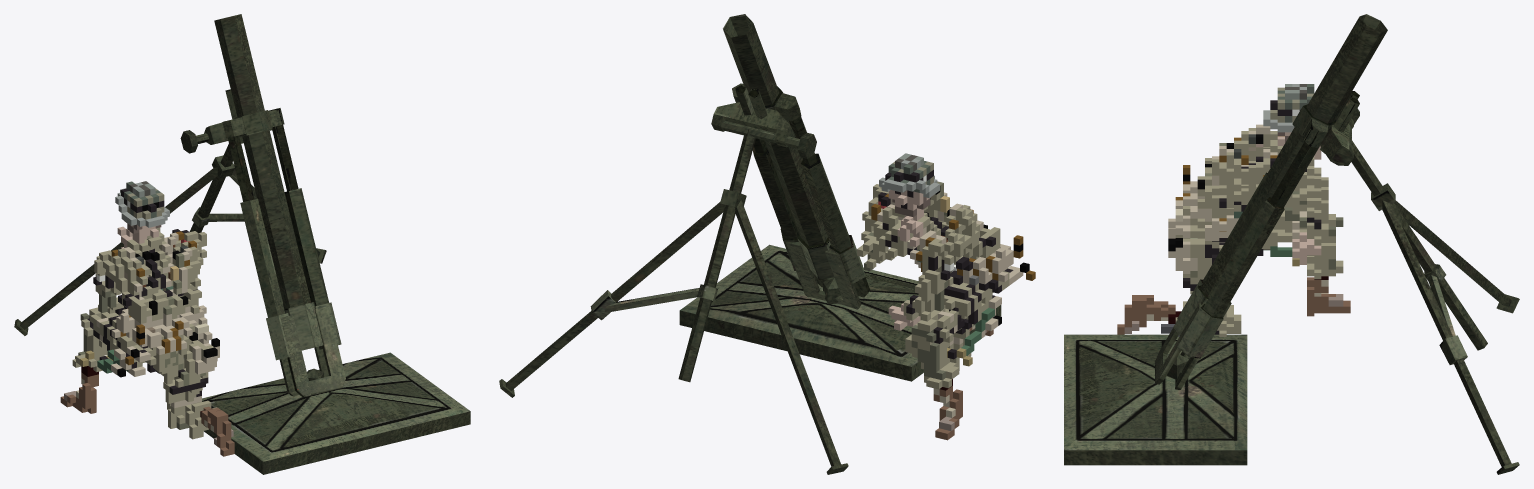
The model's file is heavy_mortar.glb.
3 renders of one model, left to right at view 1: azimuth 30°, elevation 25°; view 2: azimuth 150°, elevation 25°; view 3: azimuth 270°, elevation 25°, orthographic. The views are drawn at different scales.
Parts seen in each view (by area): view 1: weapon_turret_0_heavy_mortar_turret.mesh, crew_soldier_SLOT_00_GUNNER, 00_chassis_heavy_mortar_base.mesh; view 2: weapon_turret_0_heavy_mortar_turret.mesh, crew_soldier_SLOT_00_GUNNER, 00_chassis_heavy_mortar_base.mesh; view 3: weapon_turret_0_heavy_mortar_turret.mesh, 00_chassis_heavy_mortar_base.mesh, crew_soldier_SLOT_00_GUNNER.
Boxes of the visible parts, x1,y1,x2,y2 form: weapon_turret_0_heavy_mortar_turret.mesh: (14,14,345,397); crew_soldier_SLOT_00_GUNNER: (60,181,234,456); 00_chassis_heavy_mortar_base.mesh: (202,352,470,474); weapon_turret_0_heavy_mortar_turret.mesh: (499,14,869,474); crew_soldier_SLOT_00_GUNNER: (857,153,1035,440); 00_chassis_heavy_mortar_base.mesh: (679,244,1001,381); weapon_turret_0_heavy_mortar_turret.mesh: (1155,14,1519,474); 00_chassis_heavy_mortar_base.mesh: (1064,334,1247,465); crew_soldier_SLOT_00_GUNNER: (1117,84,1350,336).
Size of the model in its own units: 1.92 by 1.84 by 1.95.
36 materials, 1 textured.
